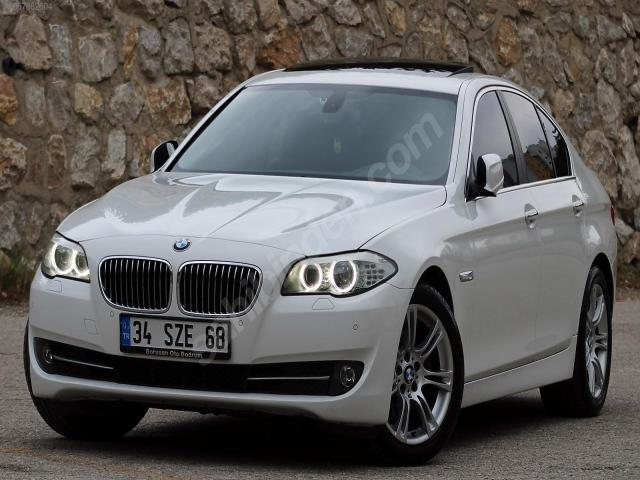plaka: (120, 316, 228, 359)
